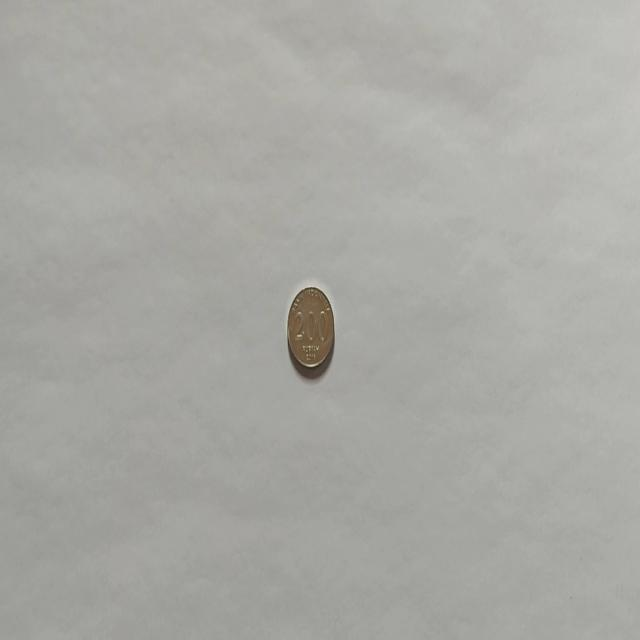dua ratus rupiah: (286, 284, 334, 370)
